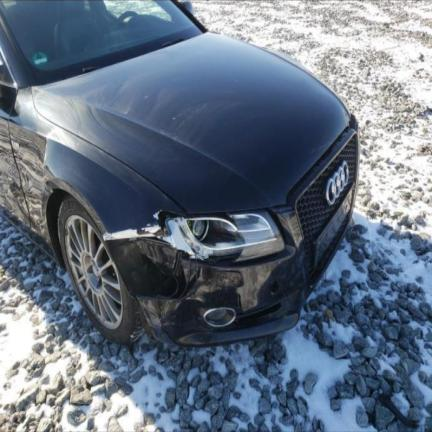scratch: (100, 206, 184, 254)
